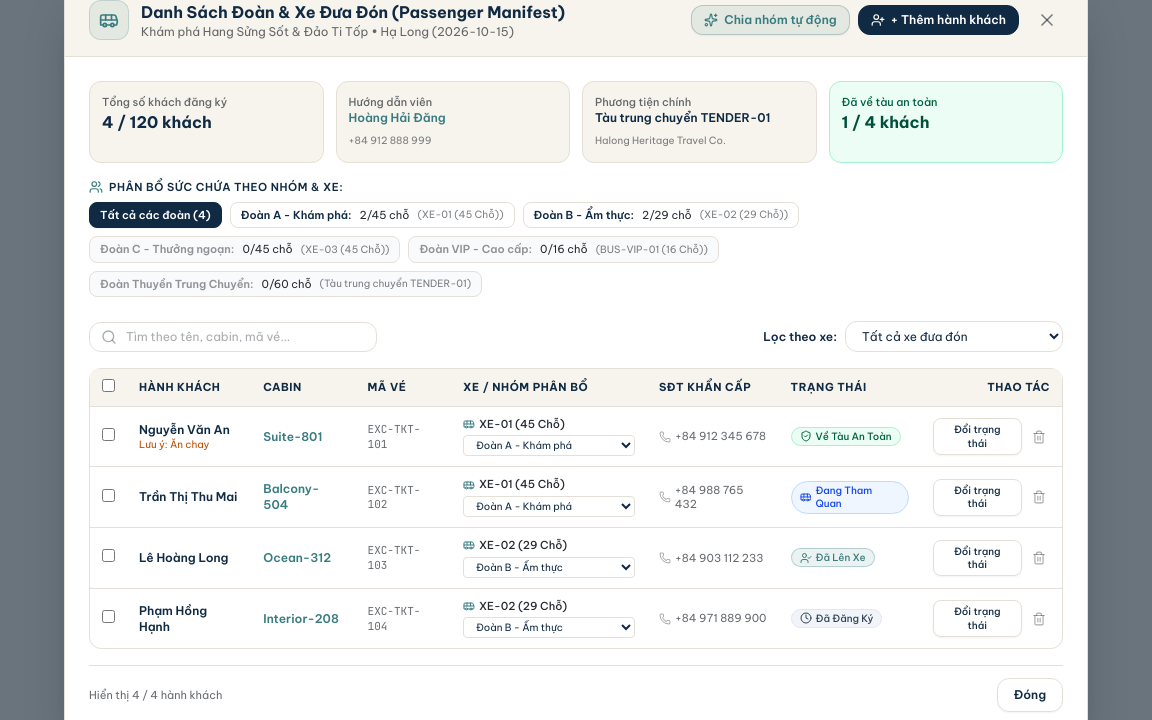
Test: ExcursionManifestModal Component Suite (KAN-174) › filters manifest passengers when typing "Suite-801"
Type "Suite-801" into the field with placeholder "Tìm theo tên, cabin, mã vé...". click: (233, 337)
box: [89,322,377,352]
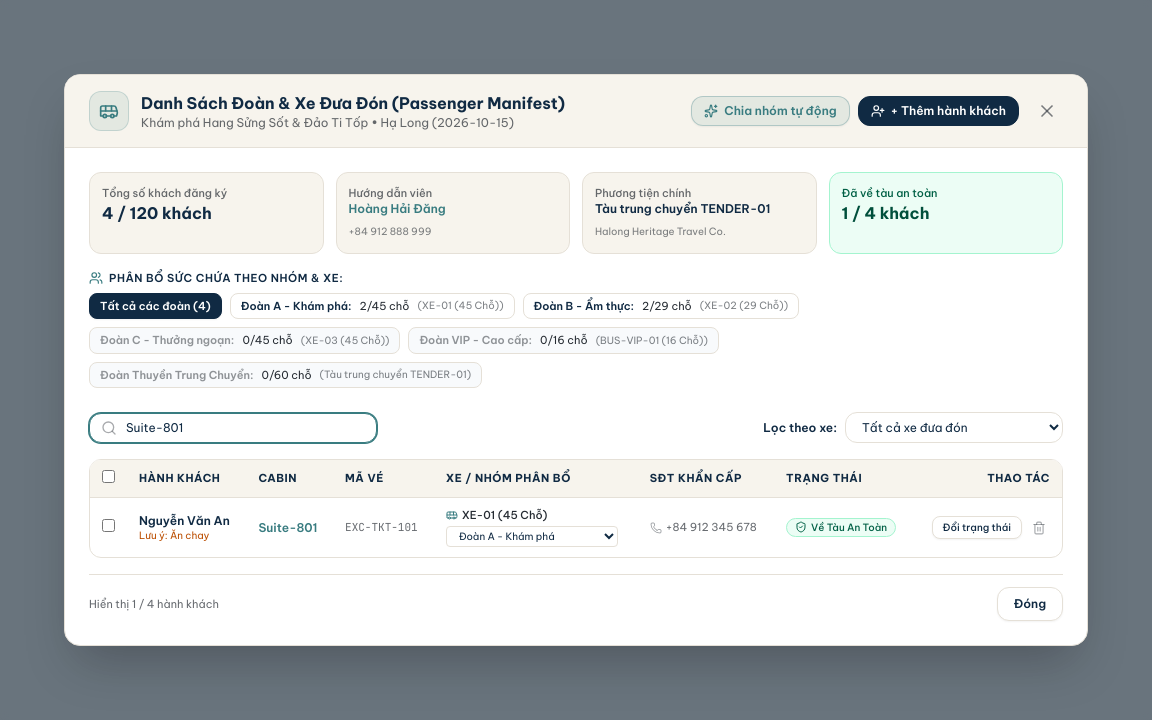
Expected: the text "Nguyễn Văn An" is shown, [139,513,230,528]
Result: the text "Trần Thị Thu Mai" is gone
